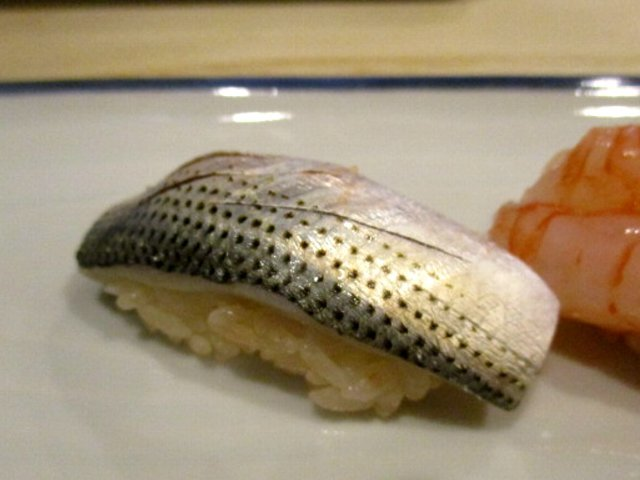spotted-shad: (68, 148, 563, 437)
